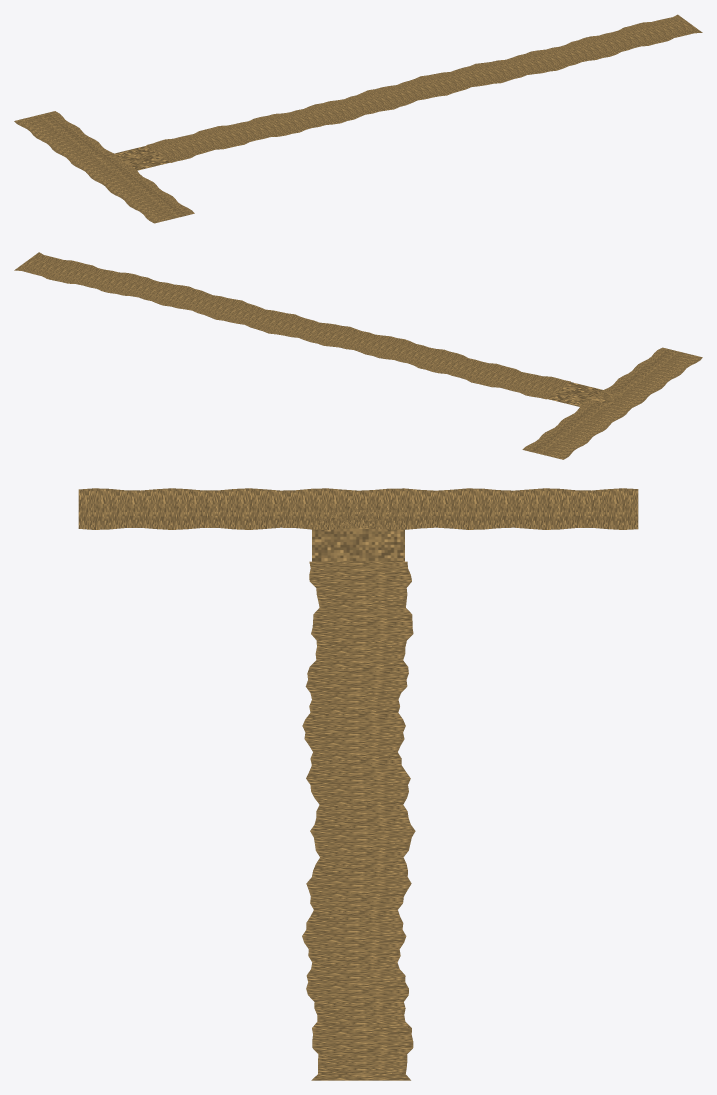
Rendered from SM_Woodland_TrailSkin.fbx.
The picture shows the model from 3 angles, top to bottom: view 1: azimuth 30°, elevation 25°; view 2: azimuth 150°, elevation 25°; view 3: azimuth 270°, elevation 25°; orthographic projection. The views are drawn at different scales.
Visible parts, largest first — view 1: SM_Woodland_TrailSkin; view 2: SM_Woodland_TrailSkin; view 3: SM_Woodland_TrailSkin.
Boxes of the visible parts, bbox=[...] form: SM_Woodland_TrailSkin: bbox=[14, 14, 702, 223]; SM_Woodland_TrailSkin: bbox=[14, 252, 702, 459]; SM_Woodland_TrailSkin: bbox=[78, 488, 638, 1080].
Bounding box in the file's own units: 4509 × 1800 × 0.
Materials: 1 (1 with a texture image).
